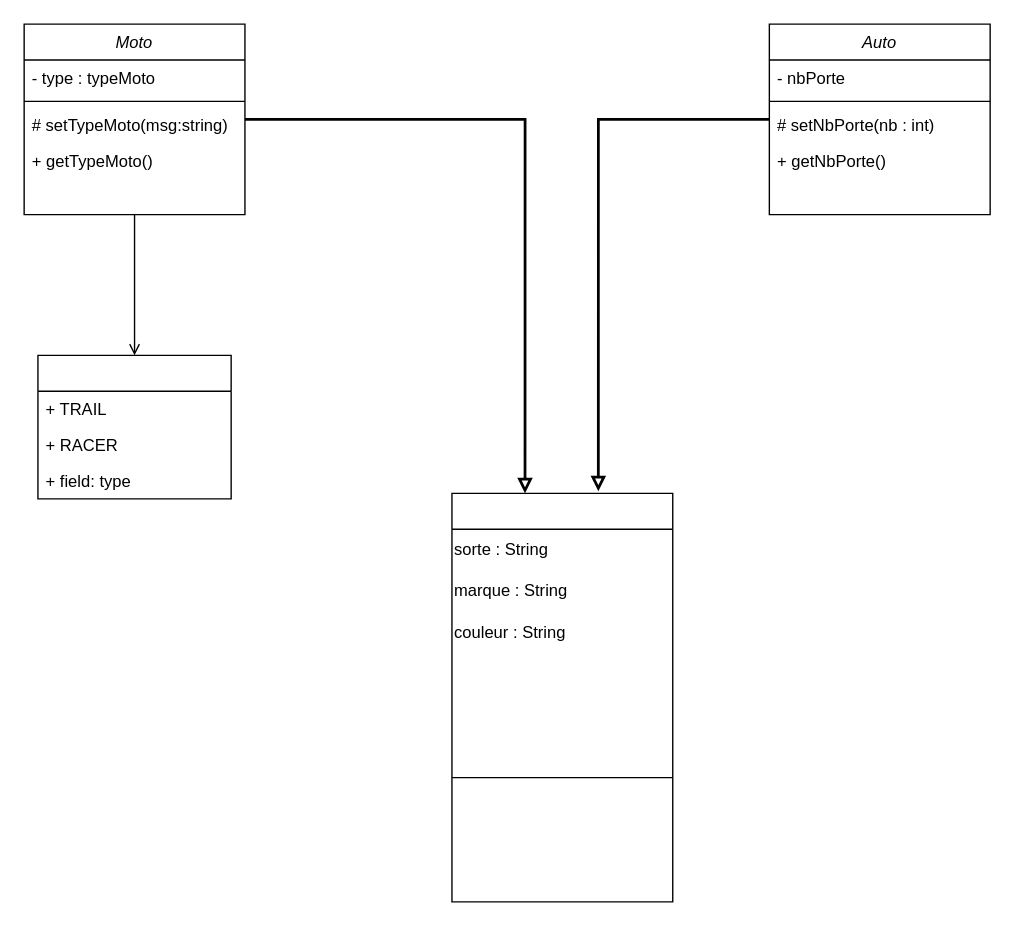
The diagram is 1014 pixels wide and 926 high, and some of its shapes have lost their labels. The shapes that lost their labels are listed below. From the top down, each one's box as (x1, y1, x2, y2) in pixels, then its label:
(37, 354, 231, 499): <<enum>> typeMoto
(451, 492, 673, 902): Véhicule
